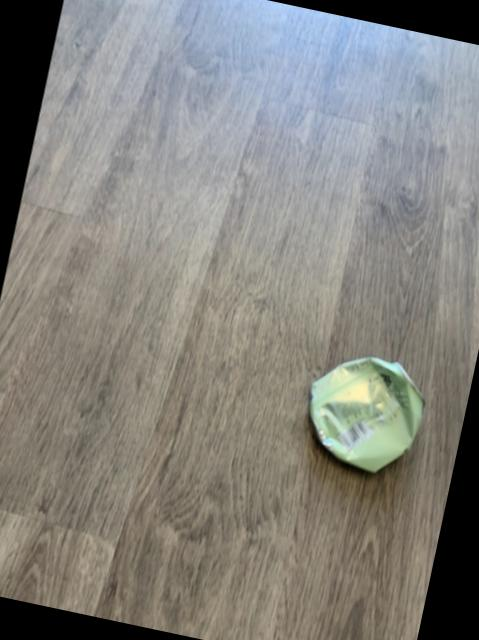metal: (308, 357, 423, 471)
